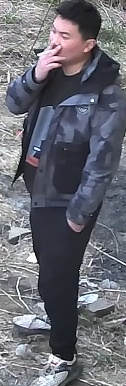smoking: (7, 10, 113, 126)
